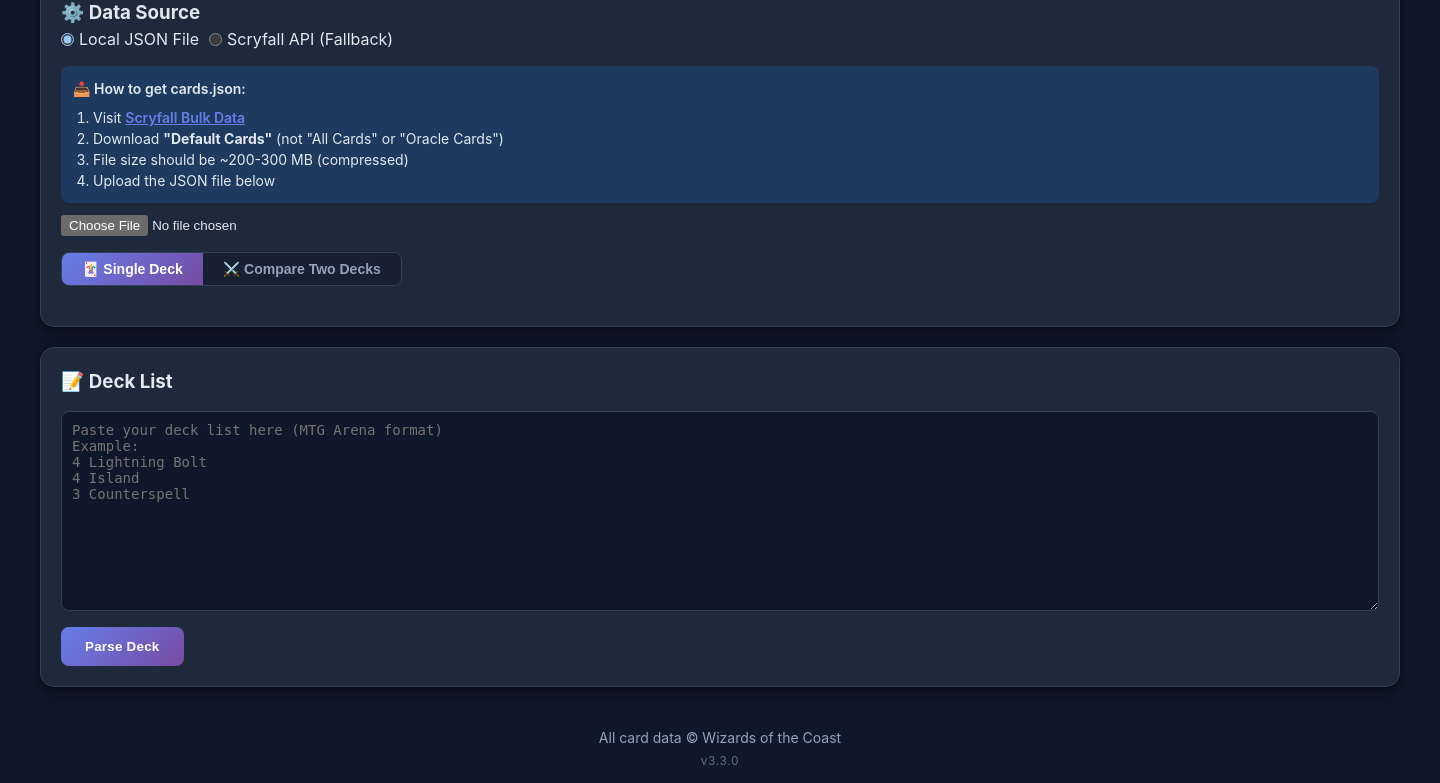
Test: Parse Deck flow › clears a previous error when a new parse succeeds cleanly
The image size is (1440, 783).
(page scrolled)
Click the button "Parse Deck": {"x": 122, "y": 647} [61, 627, 184, 666]
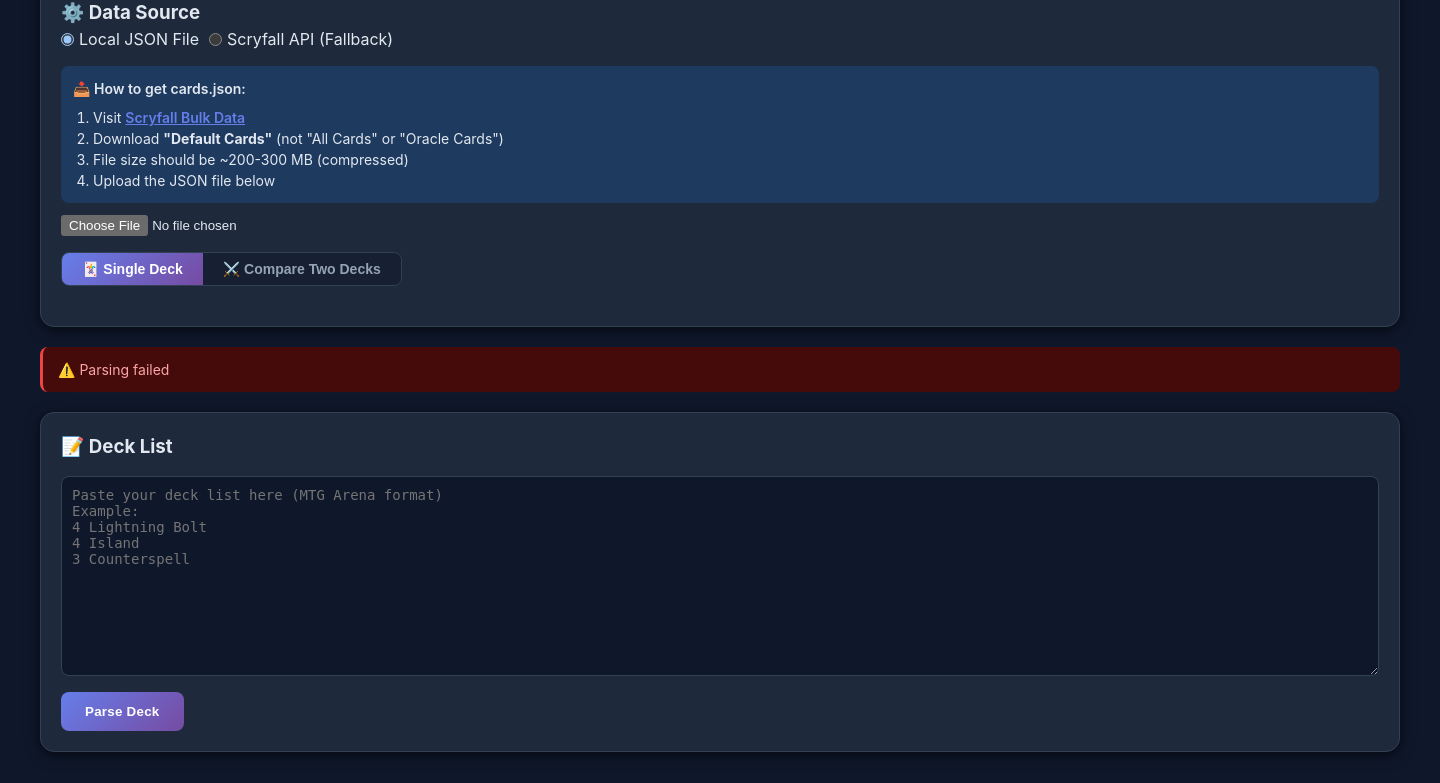
expect the text "⚠️ Parsing failed" is shown: met, box [40, 347, 1400, 392]
Click the button "Parse Deck": {"x": 122, "y": 712} [61, 692, 184, 731]
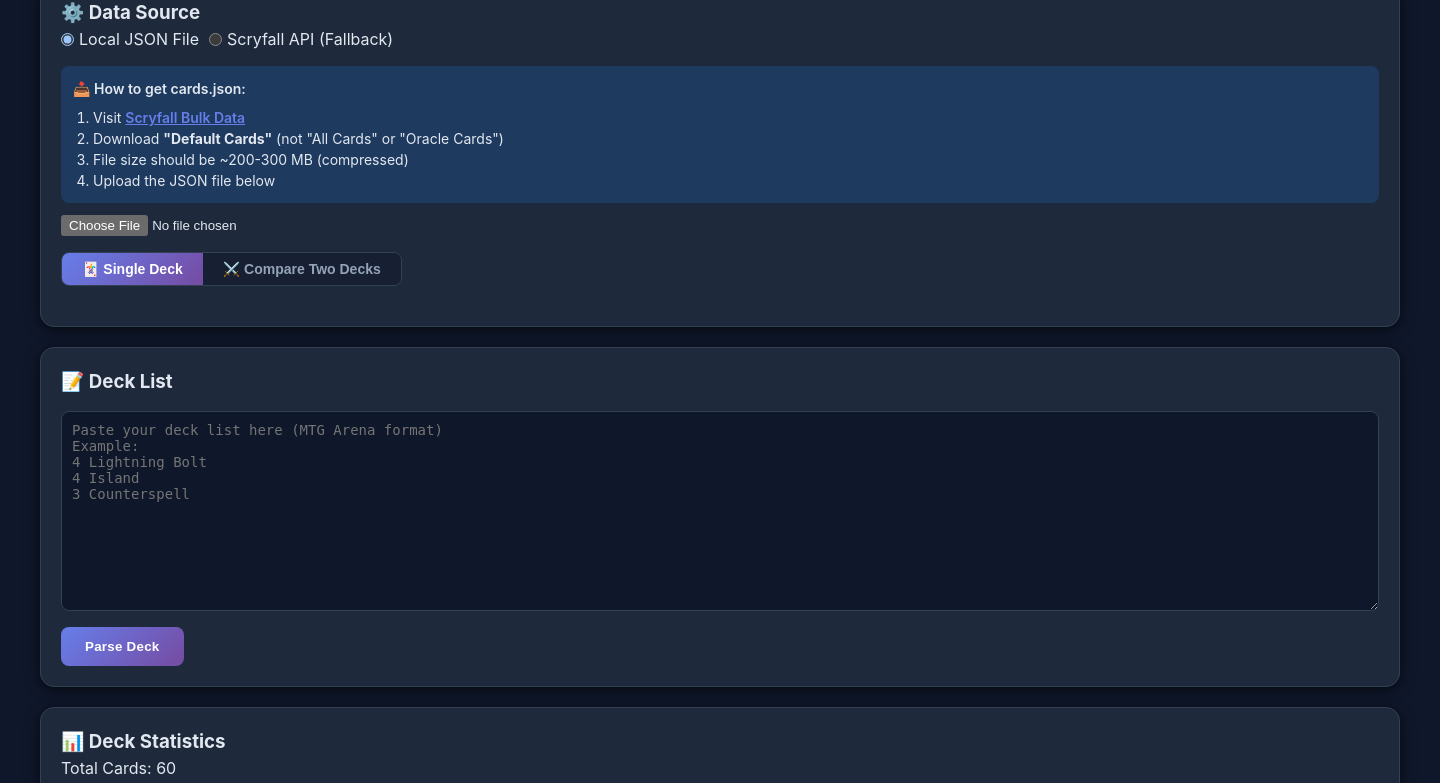
expect the text "Parsing failed" is gone: met
